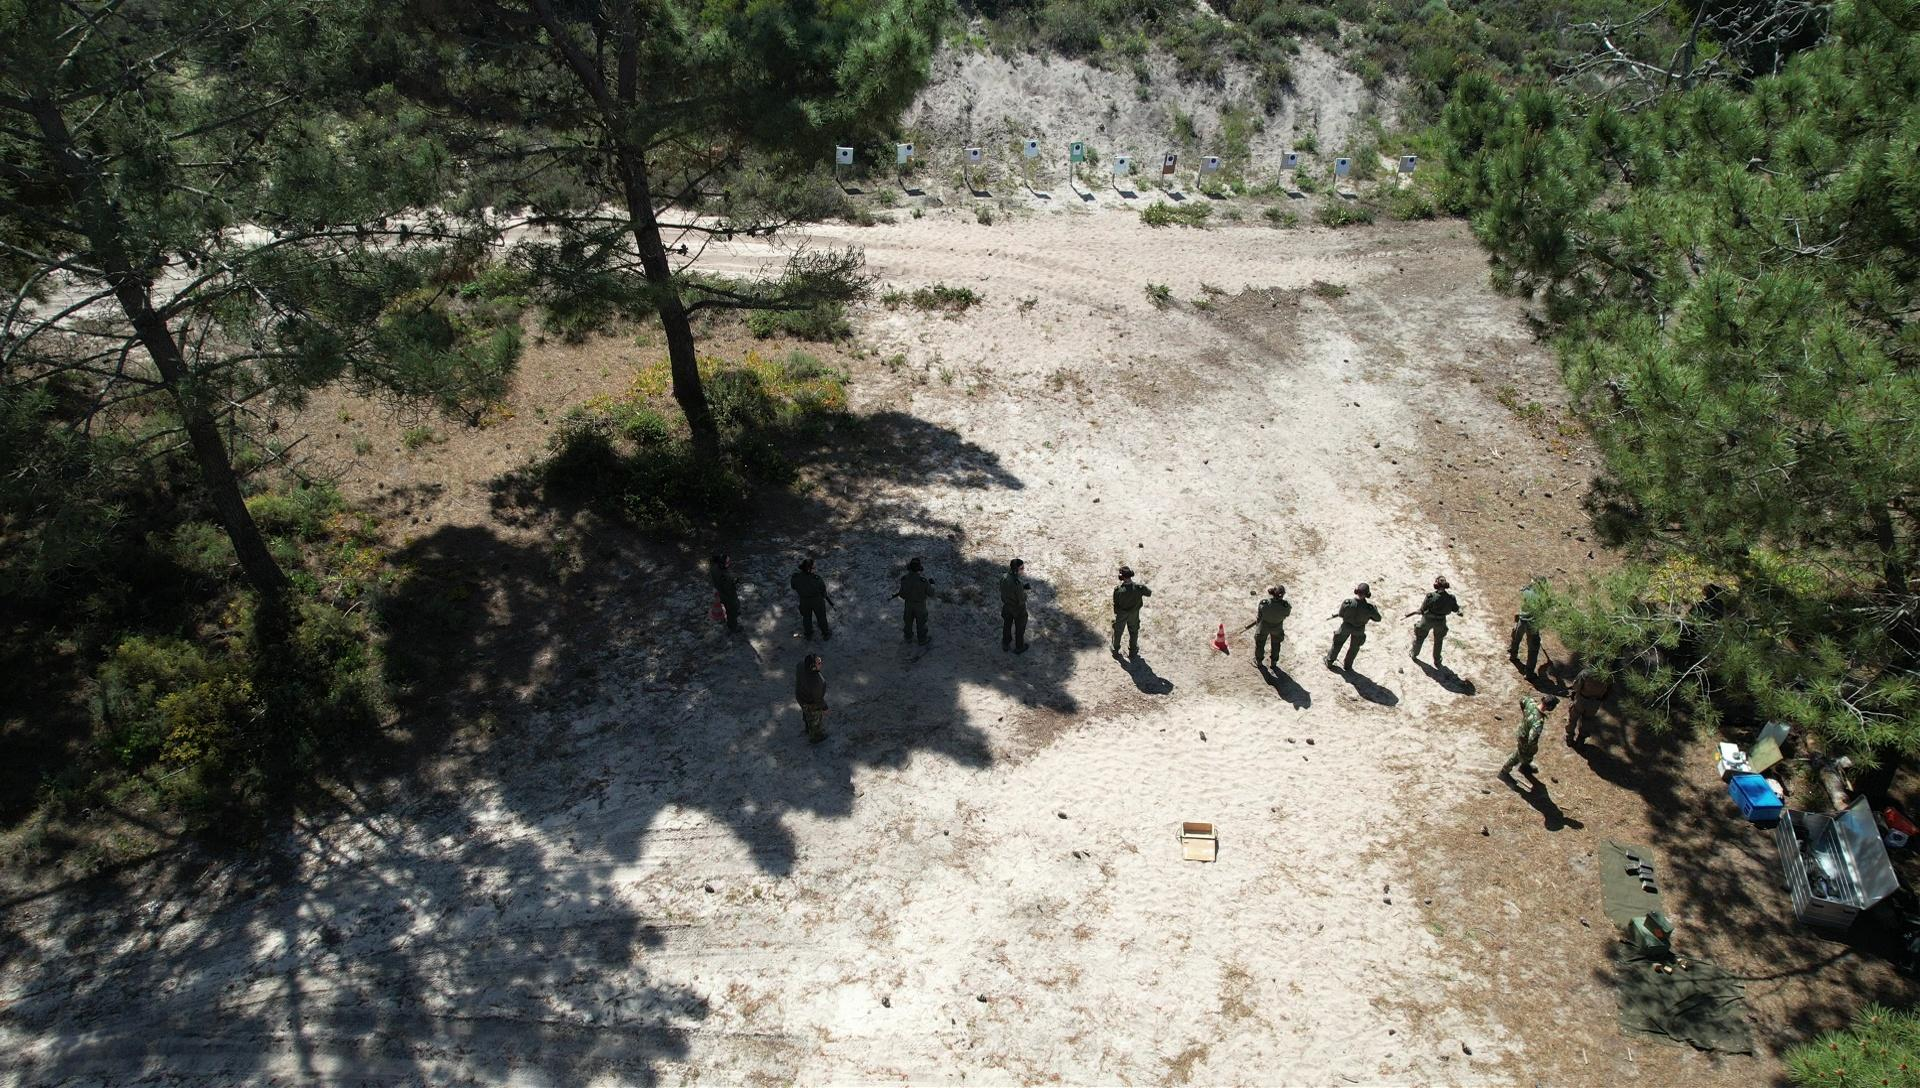Soldier: (1506, 564, 1565, 694), (1325, 575, 1385, 688), (988, 558, 1050, 663), (1407, 571, 1466, 675), (889, 554, 943, 663), (782, 557, 849, 640), (1105, 559, 1153, 673), (1499, 691, 1557, 783), (702, 541, 752, 644), (1247, 583, 1295, 682), (1563, 654, 1611, 748), (789, 649, 836, 736)
